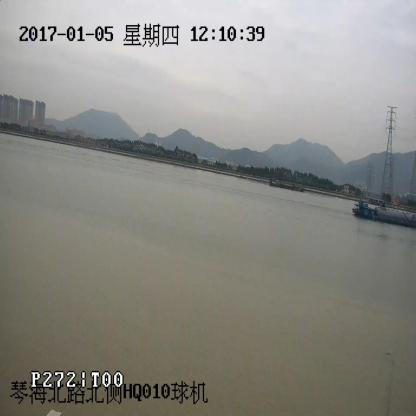Bulk Carrier: (352, 202, 416, 230)
